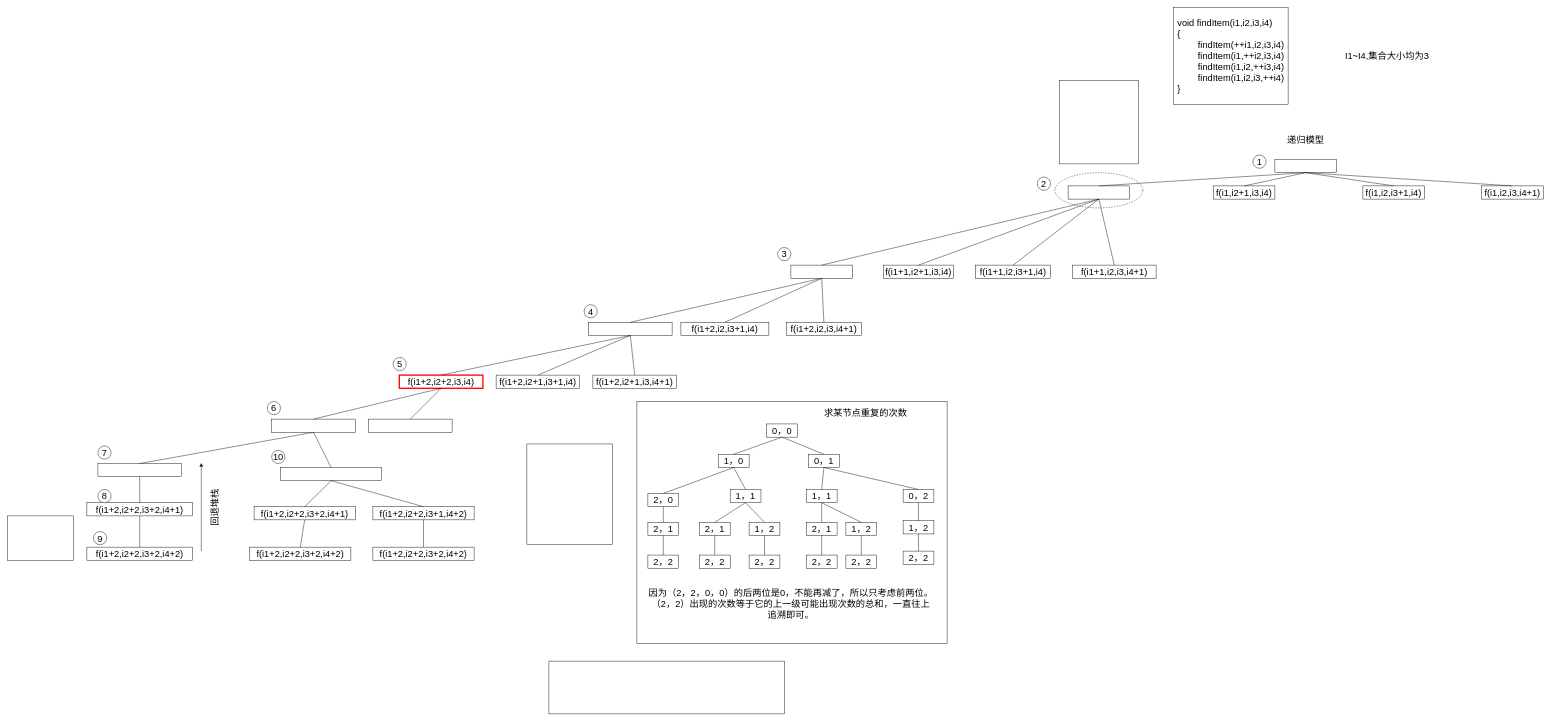
This 1551x722 diagram has some shape labels left out. Each missing label, with the box of its shape:
f(i1+1,i2,i3,i4): (1068, 185, 1130, 199)
f(i1+2,i2+1,i3,i4): (588, 322, 672, 336)
f(i1+2,i2+2,i3+1,i4): (271, 419, 355, 432)
f(i1+2,i2+2,i3+1,i4+1): (280, 467, 382, 481)
f(i1+2,i2+2,i3+2,i4): (97, 463, 182, 477)
f(i1+2,i2+2,i3,i4+1): (368, 419, 452, 432)
f(i1+2,i2,i3,i4): (790, 265, 852, 278)
f(i1,i2,i3,i4): (1274, 159, 1336, 173)
去余 假设（2，2，0，0）是满足的，那么如何知道它重复出现多少次？: (526, 444, 613, 545)
同样的节点，竟然能出现很多次，怎么去重呢？ 直接改成4层for循环嵌套，不使用递归，就好了。: (548, 661, 784, 714)
堆栈层数可控：4 * (n - 1): (7, 515, 74, 560)
此时 堆栈的层数 = 每行的第一个节点，它的所有形参的另外加上的 数字总和。: (1059, 80, 1138, 164)
